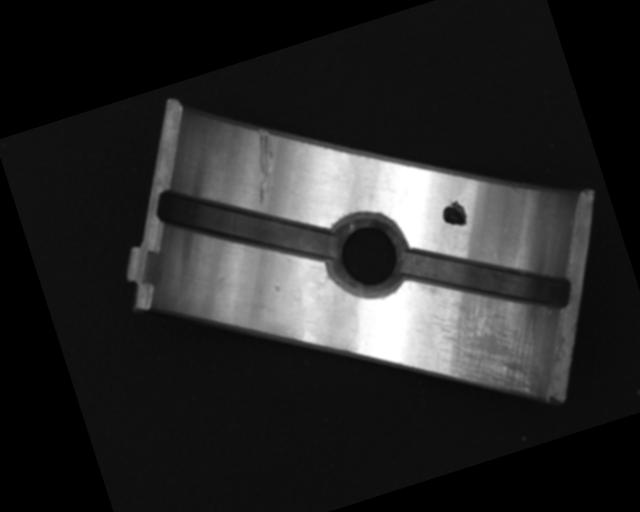blot: (438, 197, 471, 232)
bruise: (271, 279, 282, 293)
gap: (153, 148, 340, 304), (396, 207, 576, 350)
hole: (317, 204, 417, 309)
nick: (238, 125, 290, 205)
scratch: (418, 275, 558, 418)
